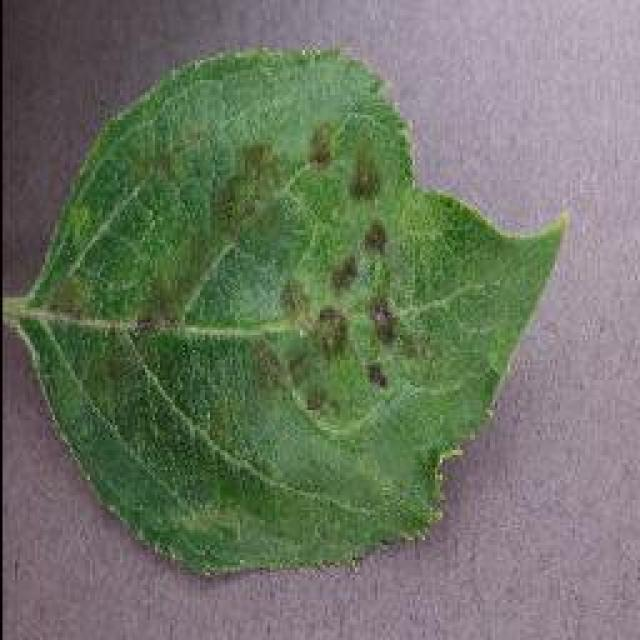apple scab disease: (5, 42, 567, 580)
